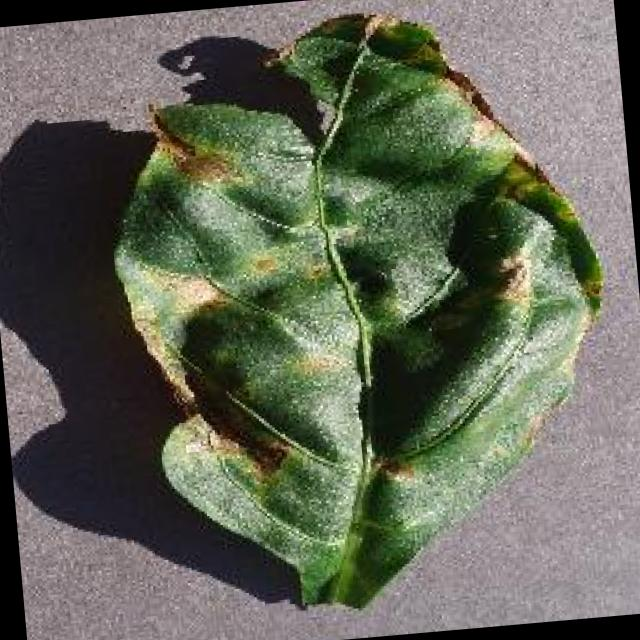Chilli_Bacterial_Spot: (89, 0, 634, 629), (140, 92, 243, 197), (356, 4, 450, 86), (485, 246, 537, 308), (367, 448, 418, 489), (356, 7, 404, 48), (294, 252, 334, 288), (244, 246, 282, 282)
